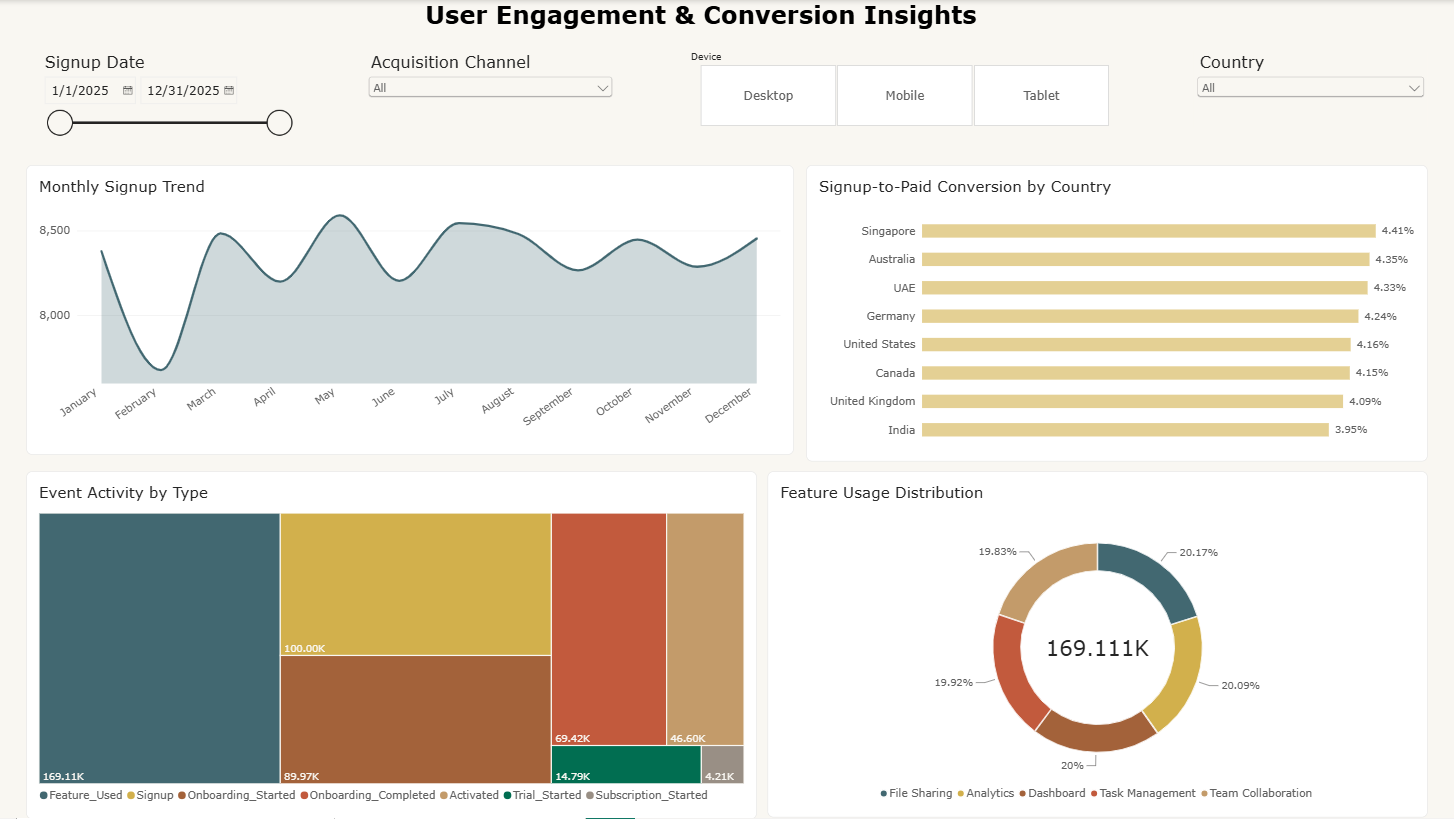

The dashboard page shown, as its layout file describes it:
{"tool":"powerbi","page":{"name":"Interactive User & Product Explorations","canvas":[1920,1080],"ordinal":0},"visuals":[{"type":"lineChart","title":"Monthly Signup Trend","fields":{"Category":["Users.signup_date.Variation.Date Hierarchy.Quarter","Users.signup_date.Variation.Date Hierarchy.Month"],"Y":["Count(Users.user_id)"]},"box":[33.9,217.9,1012.5,382.1],"z":0},{"type":"treemap","title":"Event Activity by Type","fields":{"Group":["Events.event_type"],"Values":["CountNonNull(Events.event_id)"]},"box":[33.9,621.4,964.3,458.9],"z":1000},{"type":"donutChart","title":"Feature Usage Distribution","fields":{"Category":["Events.feature_name"],"Y":["CountNonNull(Events.event_id)"]},"box":[1012.5,621.4,871.4,457.1],"z":2000},{"type":"clusteredBarChart","title":"Signup-to-Paid Conversion by Country","fields":{"Category":["Users.country"],"Y":["Users.Signup-to-Paid Conversion"]},"box":[1064.3,217.9,819.6,391.1],"z":3000},{"type":"textbox","box":[292.9,0,1251.8,48.2],"z":4000},{"type":"slicer","fields":{"Values":["Users.signup_date"]},"box":[50.9,67.3,338.2,145.5],"z":5000},{"type":"slicer","fields":{"Values":["Users.country"]},"box":[1575,67.9,308.9,100],"z":6000},{"type":"slicer","fields":{"Values":["Users.device"]},"box":[904.5,67.9,578.6,100],"z":7000},{"type":"slicer","fields":{"Values":["Users.acquisition_channel"]},"box":[481,67.3,331.5,100.6],"z":8000}]}

Visuals, with their boxes in screenshot pixels (x1, y1, x2, y2), scaled from the page's 1920x1080 canvas onto the 1454x820 screenshot:
"Monthly Signup Trend" lineChart: bbox(26, 165, 792, 456)
"Event Activity by Type" treemap: bbox(26, 472, 756, 819)
"Feature Usage Distribution" donutChart: bbox(767, 472, 1427, 819)
"Signup-to-Paid Conversion by Country" clusteredBarChart: bbox(806, 165, 1427, 462)
textbox: bbox(222, 0, 1170, 37)
slicer - Users.signup_date: bbox(39, 51, 295, 162)
slicer - Users.country: bbox(1193, 52, 1427, 127)
slicer - Users.device: bbox(685, 52, 1123, 127)
slicer - Users.acquisition_channel: bbox(364, 51, 615, 127)
